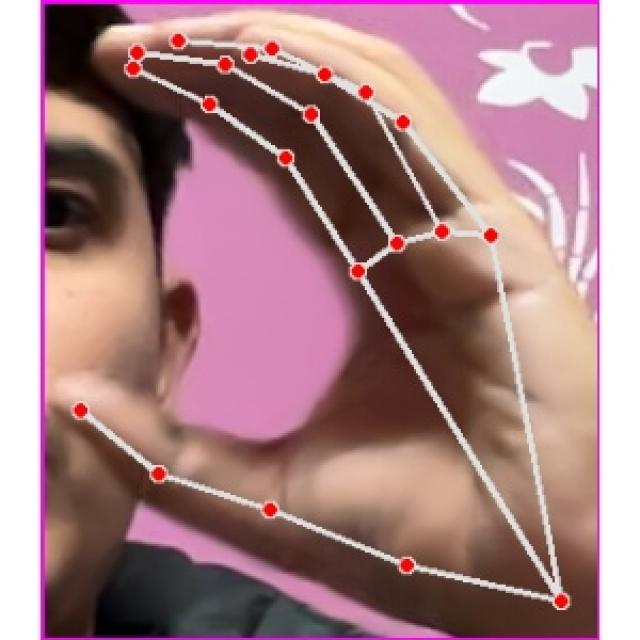C: (51, 5, 590, 637), (74, 24, 314, 72), (155, 70, 314, 76)
